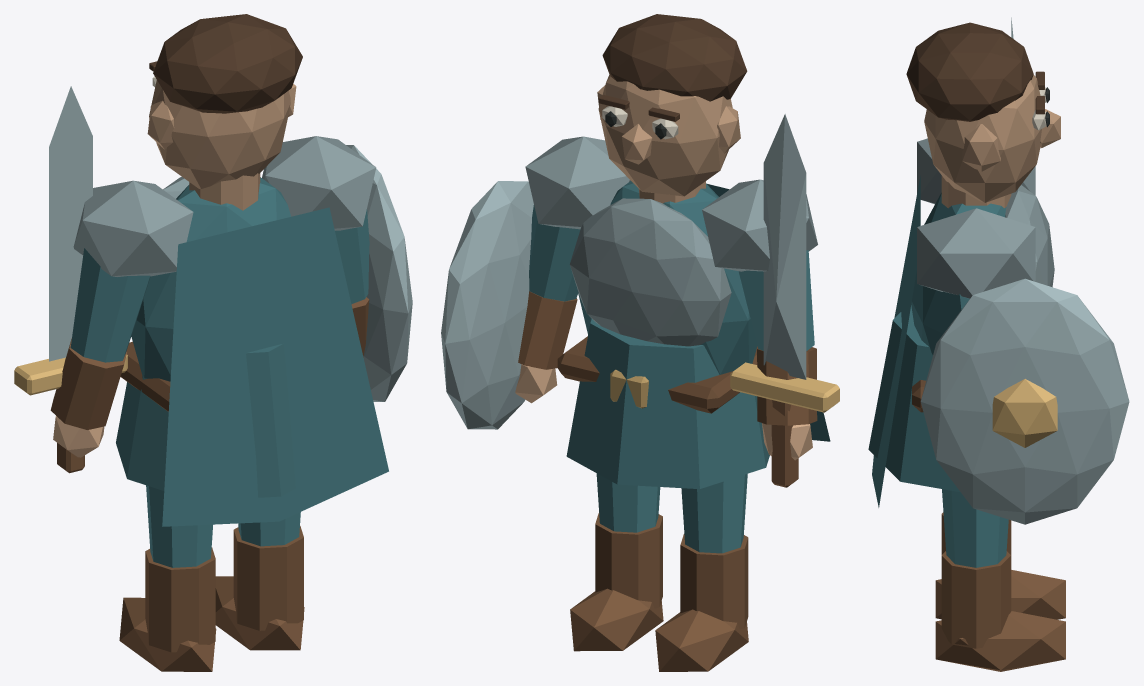
Rendered from wayfarer.glb.
3 views of the same model, side by side, from view 1: azimuth 30°, elevation 25°; view 2: azimuth 150°, elevation 25°; view 3: azimuth 270°, elevation 25° (orthographic). The views are drawn at different scales.
Parts seen in each view (by area): view 1: Body, Sleeve.001, Trouser.001, Sleeve, Trouser; view 2: Body, Sleeve, Sleeve.001, Trouser.001, Trouser; view 3: Body, Sleeve, Trouser, Trouser.001.
Boxes of the visible parts, x1,y1,x2,y2 form: Body: (73, 14, 388, 526); Sleeve.001: (14, 86, 150, 473); Trouser.001: (119, 485, 216, 671); Sleeve: (335, 145, 412, 401); Trouser: (215, 512, 304, 650); Body: (525, 14, 830, 489); Sleeve: (441, 181, 580, 429); Sleeve.001: (730, 114, 839, 487); Trouser.001: (655, 474, 748, 671); Trouser: (570, 473, 663, 651); Body: (868, 22, 1060, 507); Sleeve: (920, 278, 1129, 524); Trouser: (935, 489, 1065, 671); Trouser.001: (935, 512, 1065, 619).
Size of the model in its own units: 1.2 by 1.96 by 0.75.
